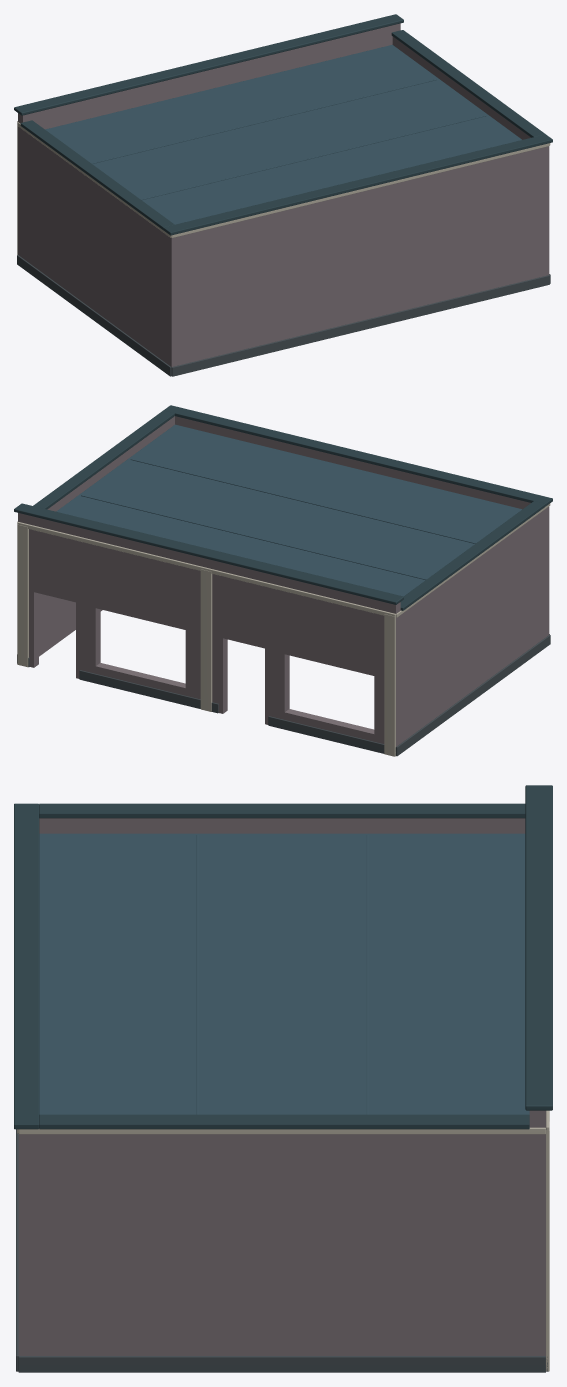
Rendered from city_small_shop_shells_02.glb.
3 renders of one model, top to bottom at view 1: azimuth 30°, elevation 25°; view 2: azimuth 150°, elevation 25°; view 3: azimuth 270°, elevation 25°, orthographic. The views are drawn at different scales.
Parts seen in each view (by area): view 1: rear_wall, flat_roof_deck, side_wall_left, front_wall_four_openings, front_parapet_coping, rear_coping, plinth_rear, side_wall_right, side_coping_left, side_coping_right, plinth_left, rear_head_course (+3 smaller); view 2: flat_roof_deck, front_wall_four_openings, side_wall_left, front_parapet_coping, rear_coping, rear_wall, side_wall_right, side_coping_left, front_head_course, side_coping_right, front_pier_centre, plinth_left (+7 smaller); view 3: flat_roof_deck, side_wall_right, front_parapet_coping, plinth_right, rear_coping, side_coping_right, side_wall_left, side_coping_left, front_wall_four_openings, side_head_course_right, front_pier_right, roof_fold_front (+2 smaller).
Boxes of the visible parts, x1=… form: rear_wall: x1=179, y1=148, x2=541, y2=364; flat_roof_deck: x1=45, y1=44, x2=521, y2=224; side_wall_left: x1=23, y1=130, x2=179, y2=366; front_wall_four_openings: x1=18, y1=23, x2=400, y2=257; front_parapet_coping: x1=14, y1=14, x2=403, y2=115; rear_coping: x1=163, y1=134, x2=552, y2=235; plinth_rear: x1=171, y1=275, x2=549, y2=376; side_wall_right: x1=392, y1=36, x2=549, y2=276; side_coping_left: x1=20, y1=120, x2=174, y2=229; side_coping_right: x1=391, y1=30, x2=545, y2=137; plinth_left: x1=17, y1=255, x2=171, y2=376; rear_head_course: x1=171, y1=143, x2=549, y2=237; flat_roof_deck: x1=56, y1=424, x2=521, y2=596; front_wall_four_openings: x1=18, y1=513, x2=400, y2=746; side_wall_left: x1=400, y1=506, x2=549, y2=743; front_parapet_coping: x1=14, y1=503, x2=403, y2=604; rear_coping: x1=163, y1=405, x2=552, y2=505; rear_wall: x1=175, y1=416, x2=530, y2=509; side_wall_right: x1=39, y1=416, x2=174, y2=656; side_coping_left: x1=400, y1=501, x2=545, y2=610; front_head_course: x1=17, y1=522, x2=395, y2=617; side_coping_right: x1=33, y1=410, x2=174, y2=509; front_pier_centre: x1=200, y1=569, x2=212, y2=711; plinth_left: x1=396, y1=635, x2=550, y2=756; flat_roof_deck: x1=39, y1=833, x2=529, y2=1114; side_wall_right: x1=18, y1=1134, x2=529, y2=1355; front_parapet_coping: x1=525, y1=785, x2=552, y2=1110; plinth_right: x1=18, y1=1356, x2=545, y2=1372; rear_coping: x1=14, y1=803, x2=39, y2=1129; side_coping_right: x1=39, y1=1114, x2=529, y2=1129; side_wall_left: x1=39, y1=818, x2=525, y2=833; side_coping_left: x1=39, y1=803, x2=525, y2=818; front_wall_four_openings: x1=529, y1=1110, x2=545, y2=1355; side_head_course_right: x1=18, y1=1127, x2=545, y2=1134; front_pier_right: x1=546, y1=1122, x2=549, y2=1371; roof_fold_front: x1=366, y1=835, x2=368, y2=1114.
Bounding box in the file's own units: 12.96 × 5.05 × 9.2.
